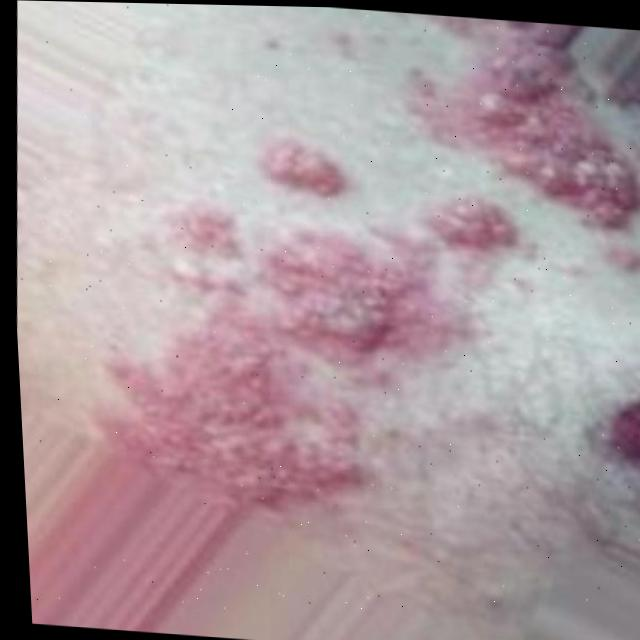Shingles: (88, 169, 535, 531), (393, 37, 640, 231), (259, 139, 356, 201)
